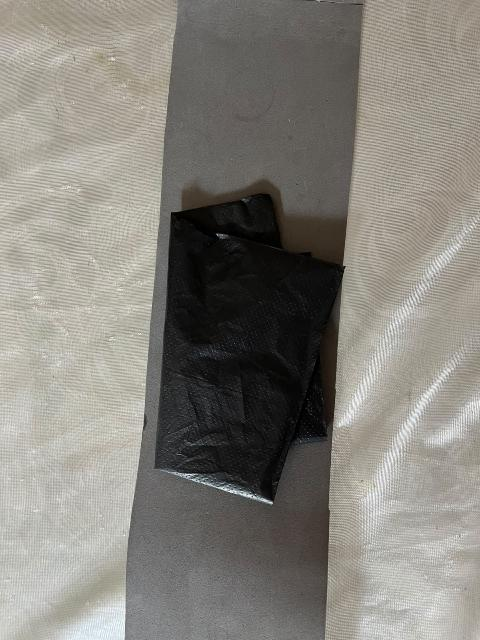LDPE: (136, 167, 357, 520)
